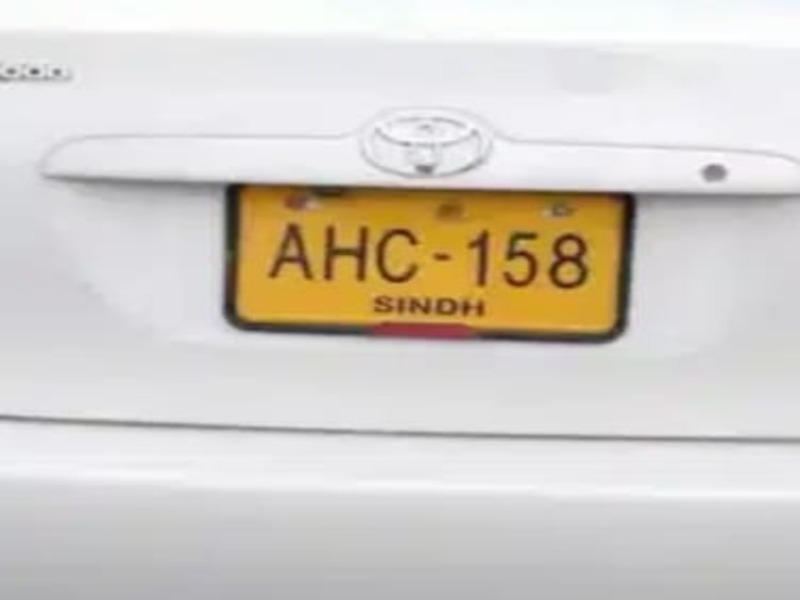License Plate: (223, 180, 636, 345)
